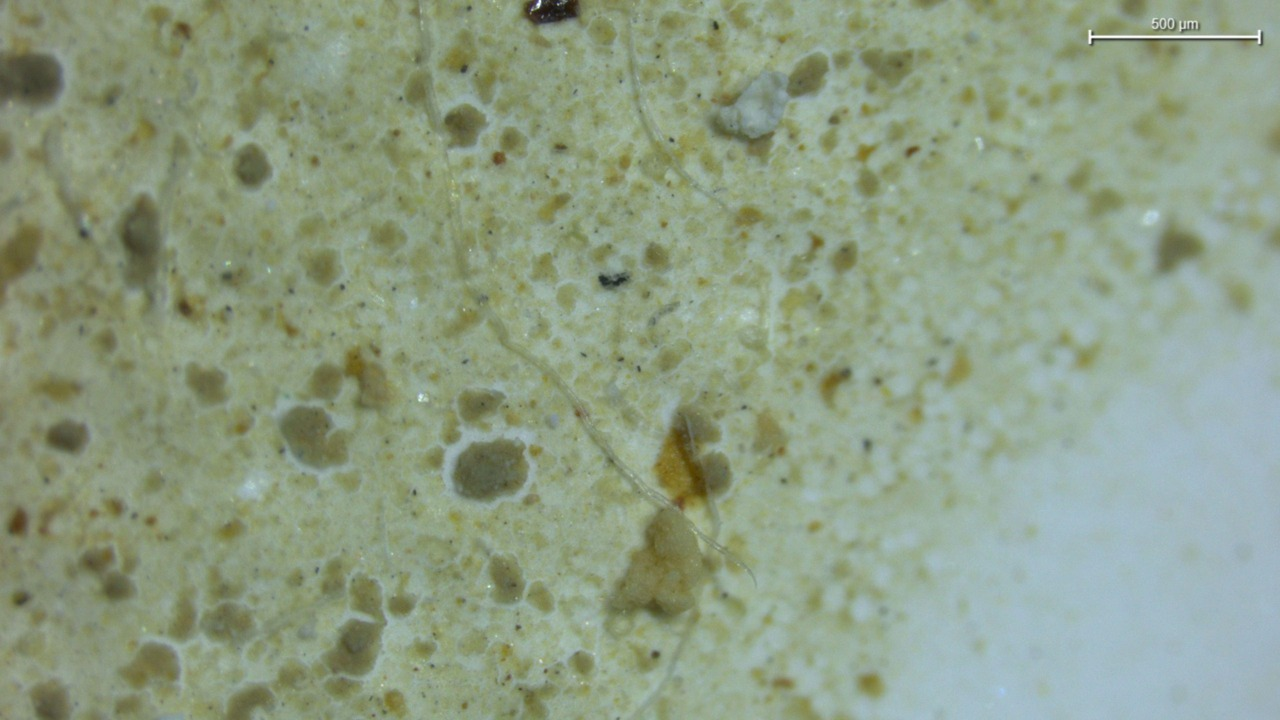microplastic_fragment: (609, 508, 709, 616), (715, 71, 789, 139)
